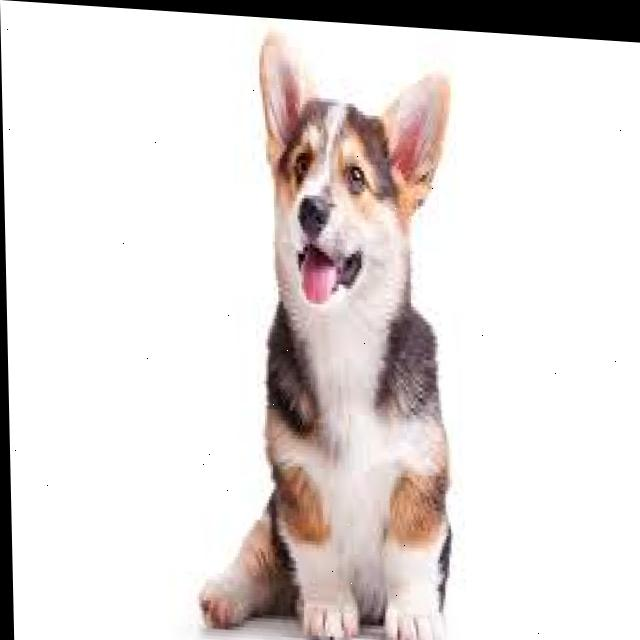CORGI: (179, 32, 477, 640)
